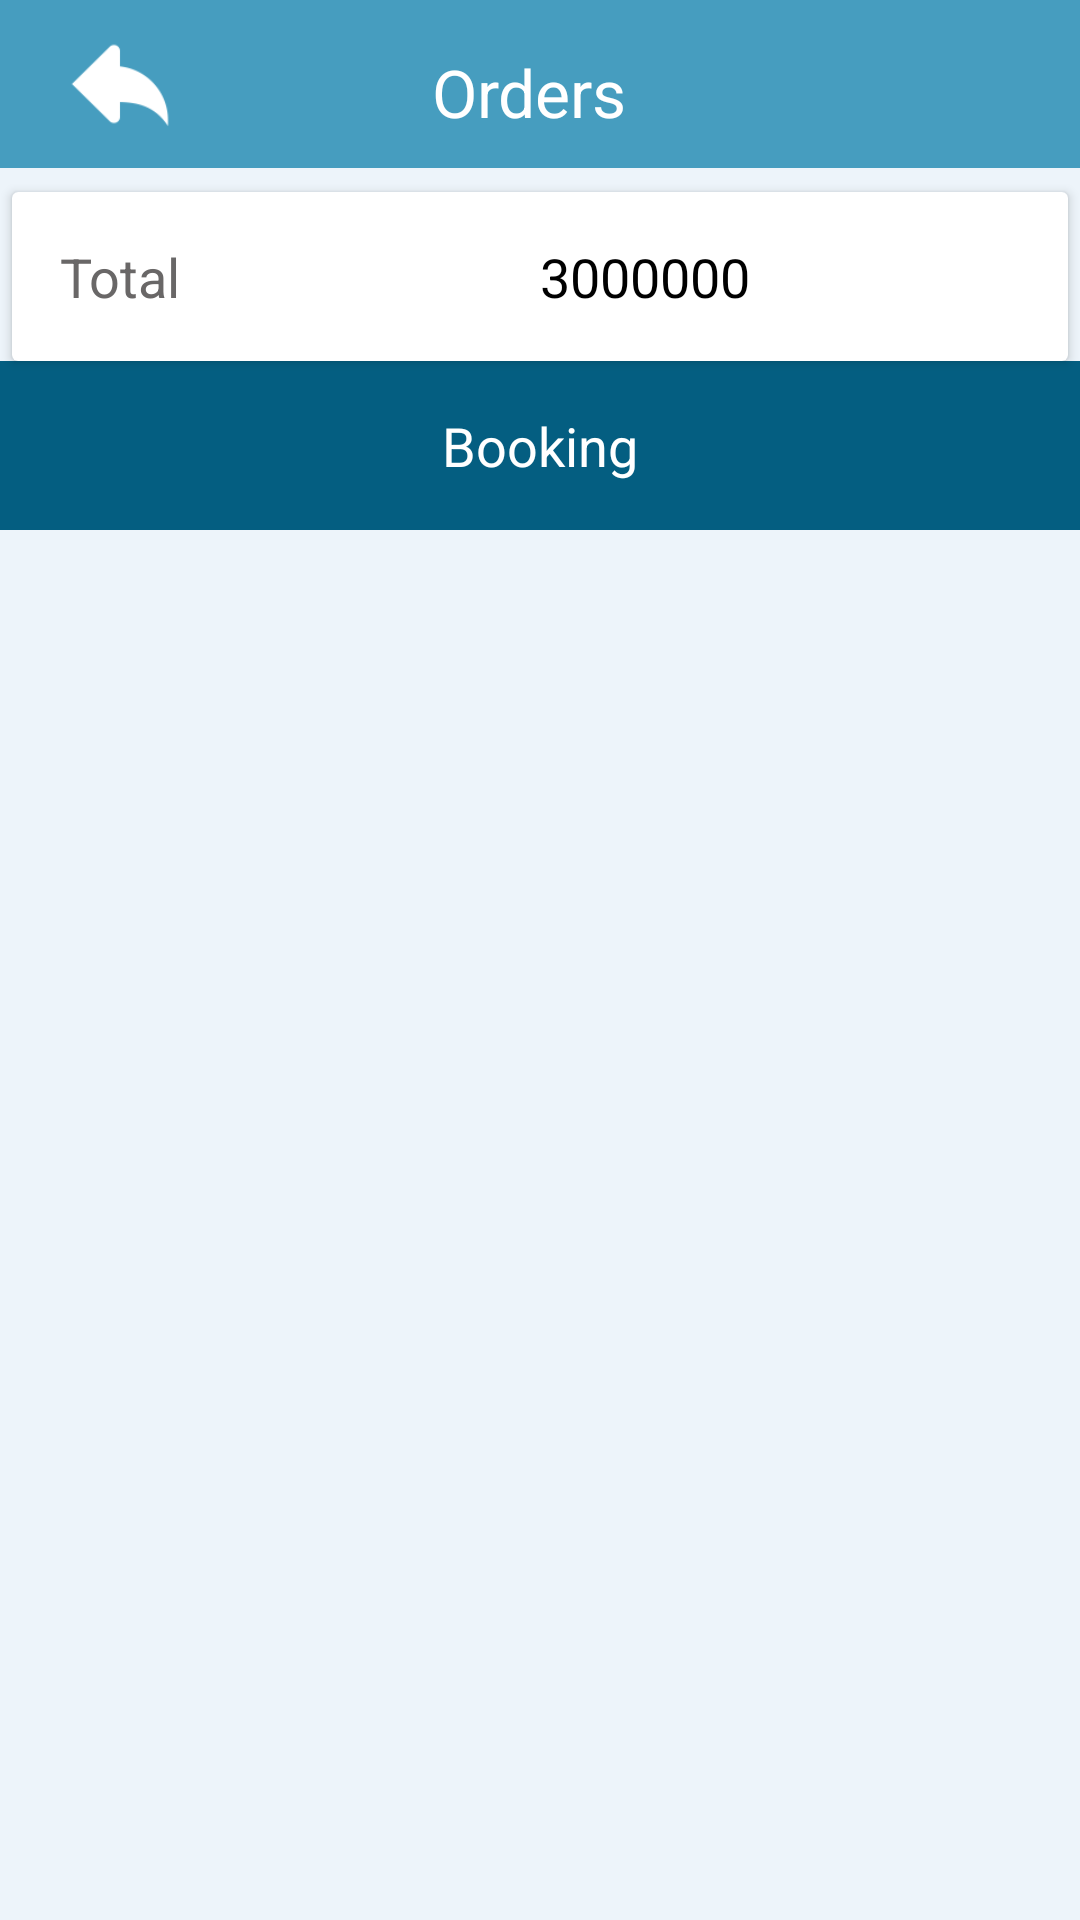

Where icons sit on this 1080 x 1920 app screen, as (left=x1, top=y1, right=x2, bottom=y2):
back: (left=72, top=44, right=169, bottom=126)
